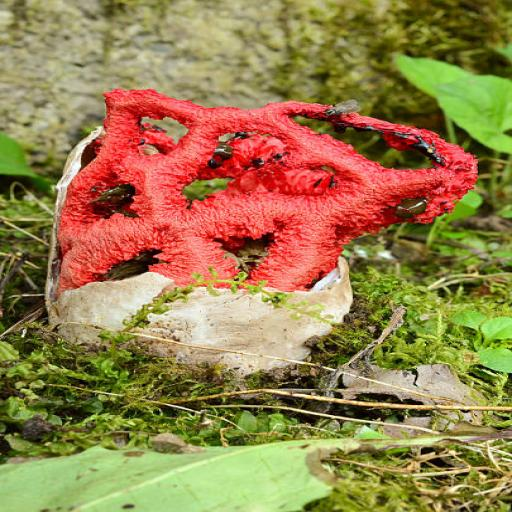Red Cage Fungus: (54, 87, 477, 305)
